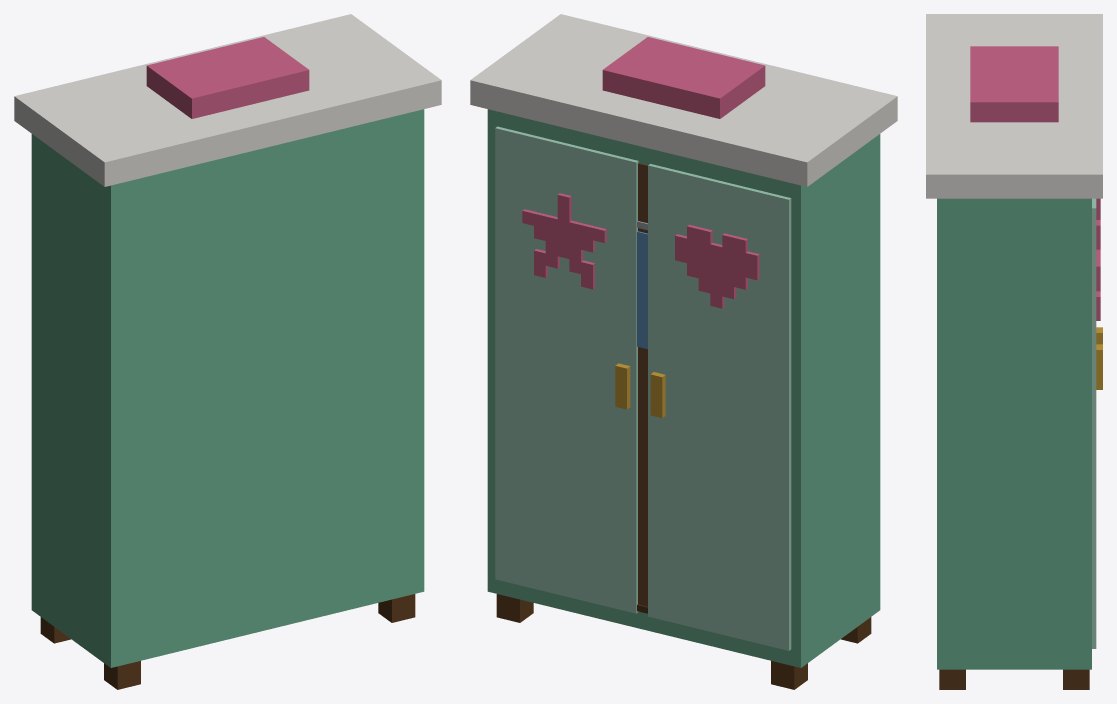
The model's file is ncb-wardrobe-mint.glb.
3 views of the same model, side by side, from view 1: azimuth 30°, elevation 25°; view 2: azimuth 150°, elevation 25°; view 3: azimuth 270°, elevation 25° (orthographic). The views are drawn at different scales.
Visible parts, largest first — view 1: box-prop; view 2: box-prop, part-door-left, part-door-right; view 3: box-prop, part-door-right.
Part boxes in pixels (<box>): box-prop: <box>14,14,441,689</box>; box-prop: <box>470,14,897,689</box>; part-door-left: <box>648,164,791,650</box>; part-door-right: <box>495,126,638,613</box>; box-prop: <box>926,14,1102,689</box>; part-door-right: <box>1092,198,1102,648</box>.
Bounding box in the file's own units: 1.72 × 2.72 × 0.8.
